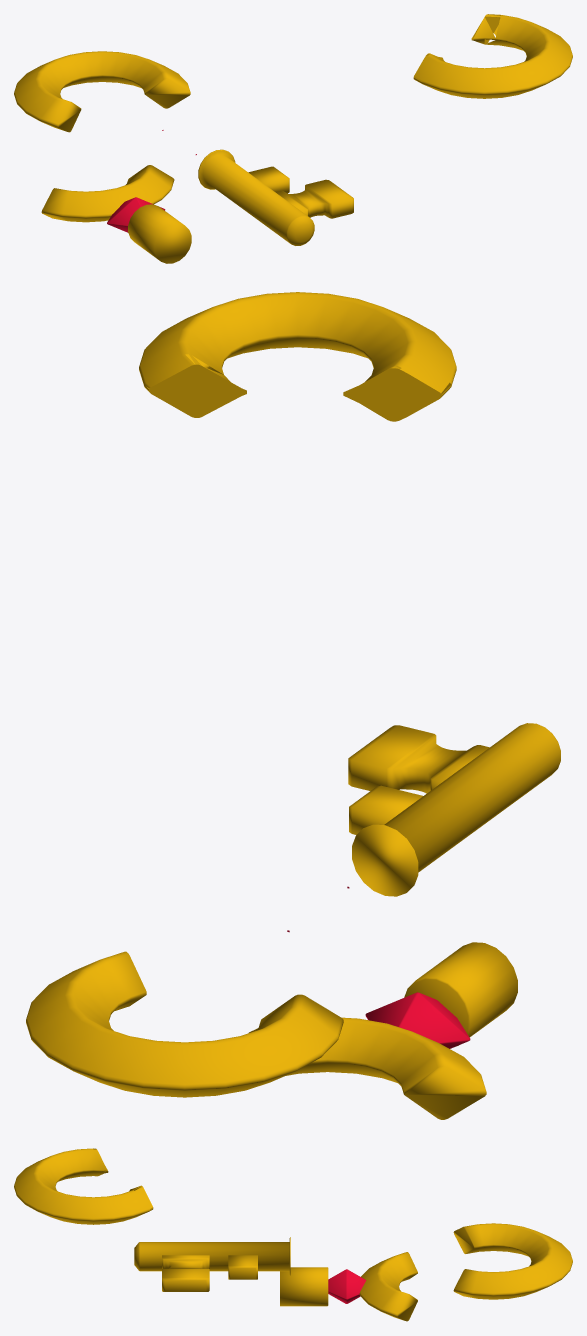
Rendered from alt anahtar.fbx.
3 views of the same model, one above another, from view 1: azimuth 30°, elevation 25°; view 2: azimuth 150°, elevation 25°; view 3: azimuth 270°, elevation 25° (orthographic). The views are drawn at different scales.
Parts seen in each view (by area): view 1: Key, Key.002, Key.001, Key.003; view 2: Key, Key.002, Key.001, Key.003; view 3: Key.002, Key, Key.001, Key.003.
Part boxes in pixels (x1,y1,x2,y2): Key: [413, 14, 572, 98]; Key.002: [14, 51, 190, 132]; Key.001: [162, 130, 353, 245]; Key.003: [41, 165, 191, 263]; Key: [139, 292, 456, 421]; Key.002: [26, 951, 343, 1097]; Key.001: [287, 723, 560, 932]; Key.003: [249, 942, 517, 1119]; Key.002: [453, 1223, 572, 1299]; Key: [14, 1148, 153, 1224]; Key.001: [134, 1237, 290, 1291]; Key.003: [280, 1252, 417, 1321].
Size of the model in its own units: 34.24 by 23.08 by 52.62.
